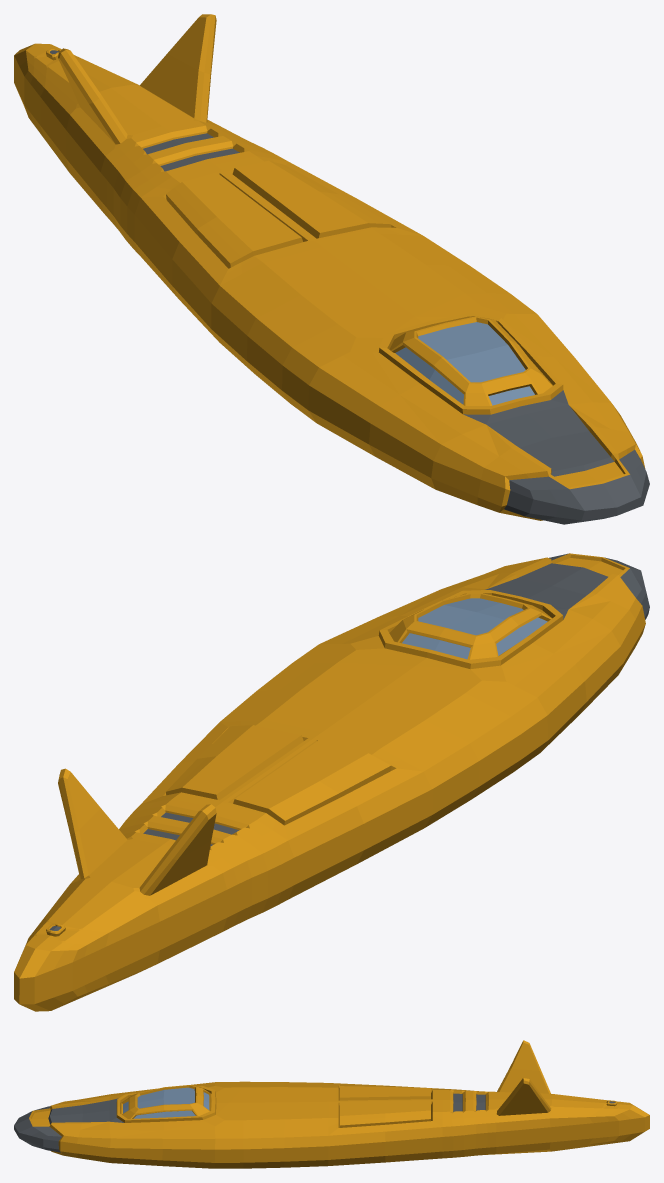
Rendered from Fighter_02_Body_Yellow.fbx.
3 renders of one model, top to bottom at view 1: azimuth 30°, elevation 25°; view 2: azimuth 150°, elevation 25°; view 3: azimuth 270°, elevation 25°, orthographic. The views are drawn at different scales.
Parts seen in each view (by area): view 1: Fighter_02_Body_Yellow; view 2: Fighter_02_Body_Yellow; view 3: Fighter_02_Body_Yellow.
Part boxes in pixels (bbox=[...]): Fighter_02_Body_Yellow: bbox=[14, 14, 649, 524]; Fighter_02_Body_Yellow: bbox=[14, 553, 649, 1011]; Fighter_02_Body_Yellow: bbox=[14, 1040, 649, 1168].
Bounding box in the file's own units: 300 × 198 × 1294.
3 materials, 3 textured.
